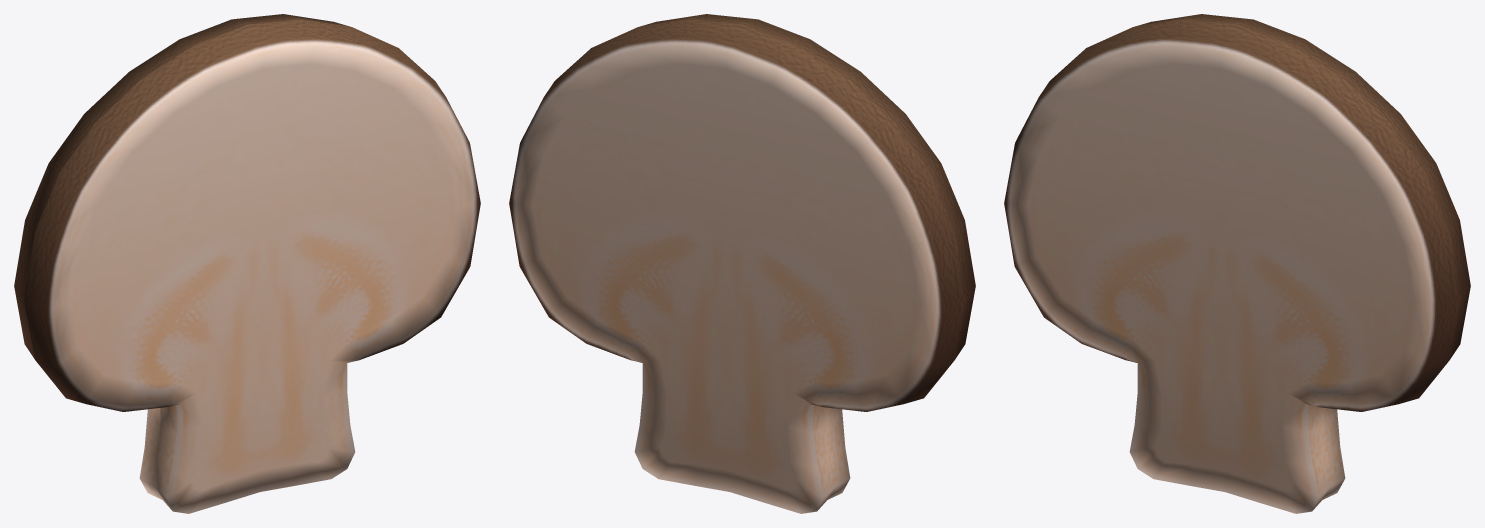
Rendered from MushroomSlice_1.fbx.
3 renders of one model, left to right at view 1: azimuth 30°, elevation 25°; view 2: azimuth 150°, elevation 25°; view 3: azimuth 330°, elevation 25°, orthographic.
Visible parts, largest first — view 1: MushroomSlice_1; view 2: MushroomSlice_1; view 3: MushroomSlice_1.
Boxes of the visible parts, bbox=[...] form: MushroomSlice_1: bbox=[14, 14, 480, 513]; MushroomSlice_1: bbox=[509, 14, 975, 513]; MushroomSlice_1: bbox=[1004, 14, 1470, 513].
Size of the model in its own units: 0.0398 by 0.0394 by 0.00494.
1 material, 1 textured.
